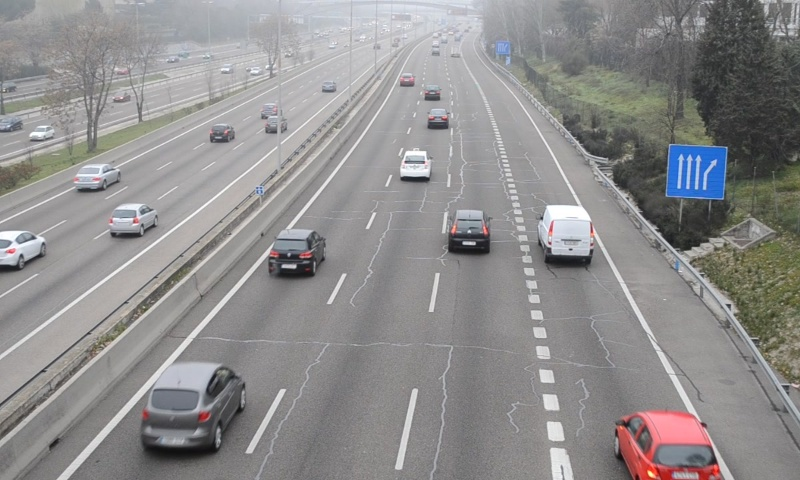car: (138, 362, 247, 454), (614, 410, 724, 480), (266, 228, 326, 274), (448, 209, 490, 252), (399, 150, 432, 178), (426, 108, 450, 128), (423, 83, 441, 100), (400, 72, 414, 87)
van: (539, 204, 595, 262)
